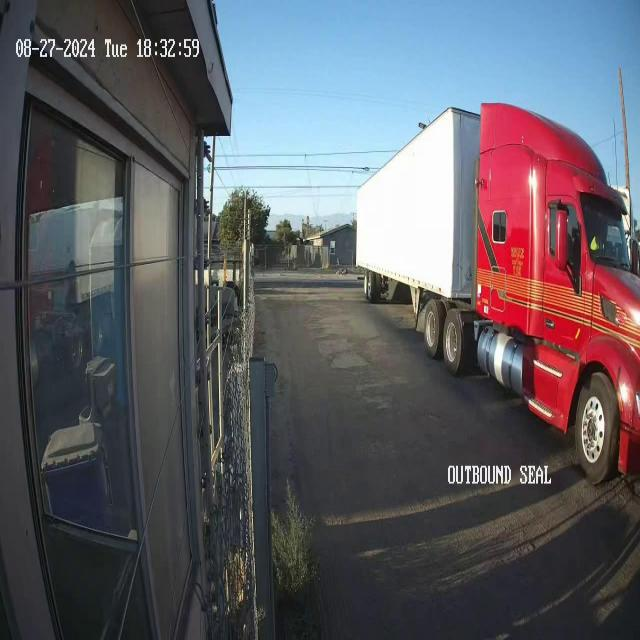TRUCK_IN: (355, 99, 639, 486)
